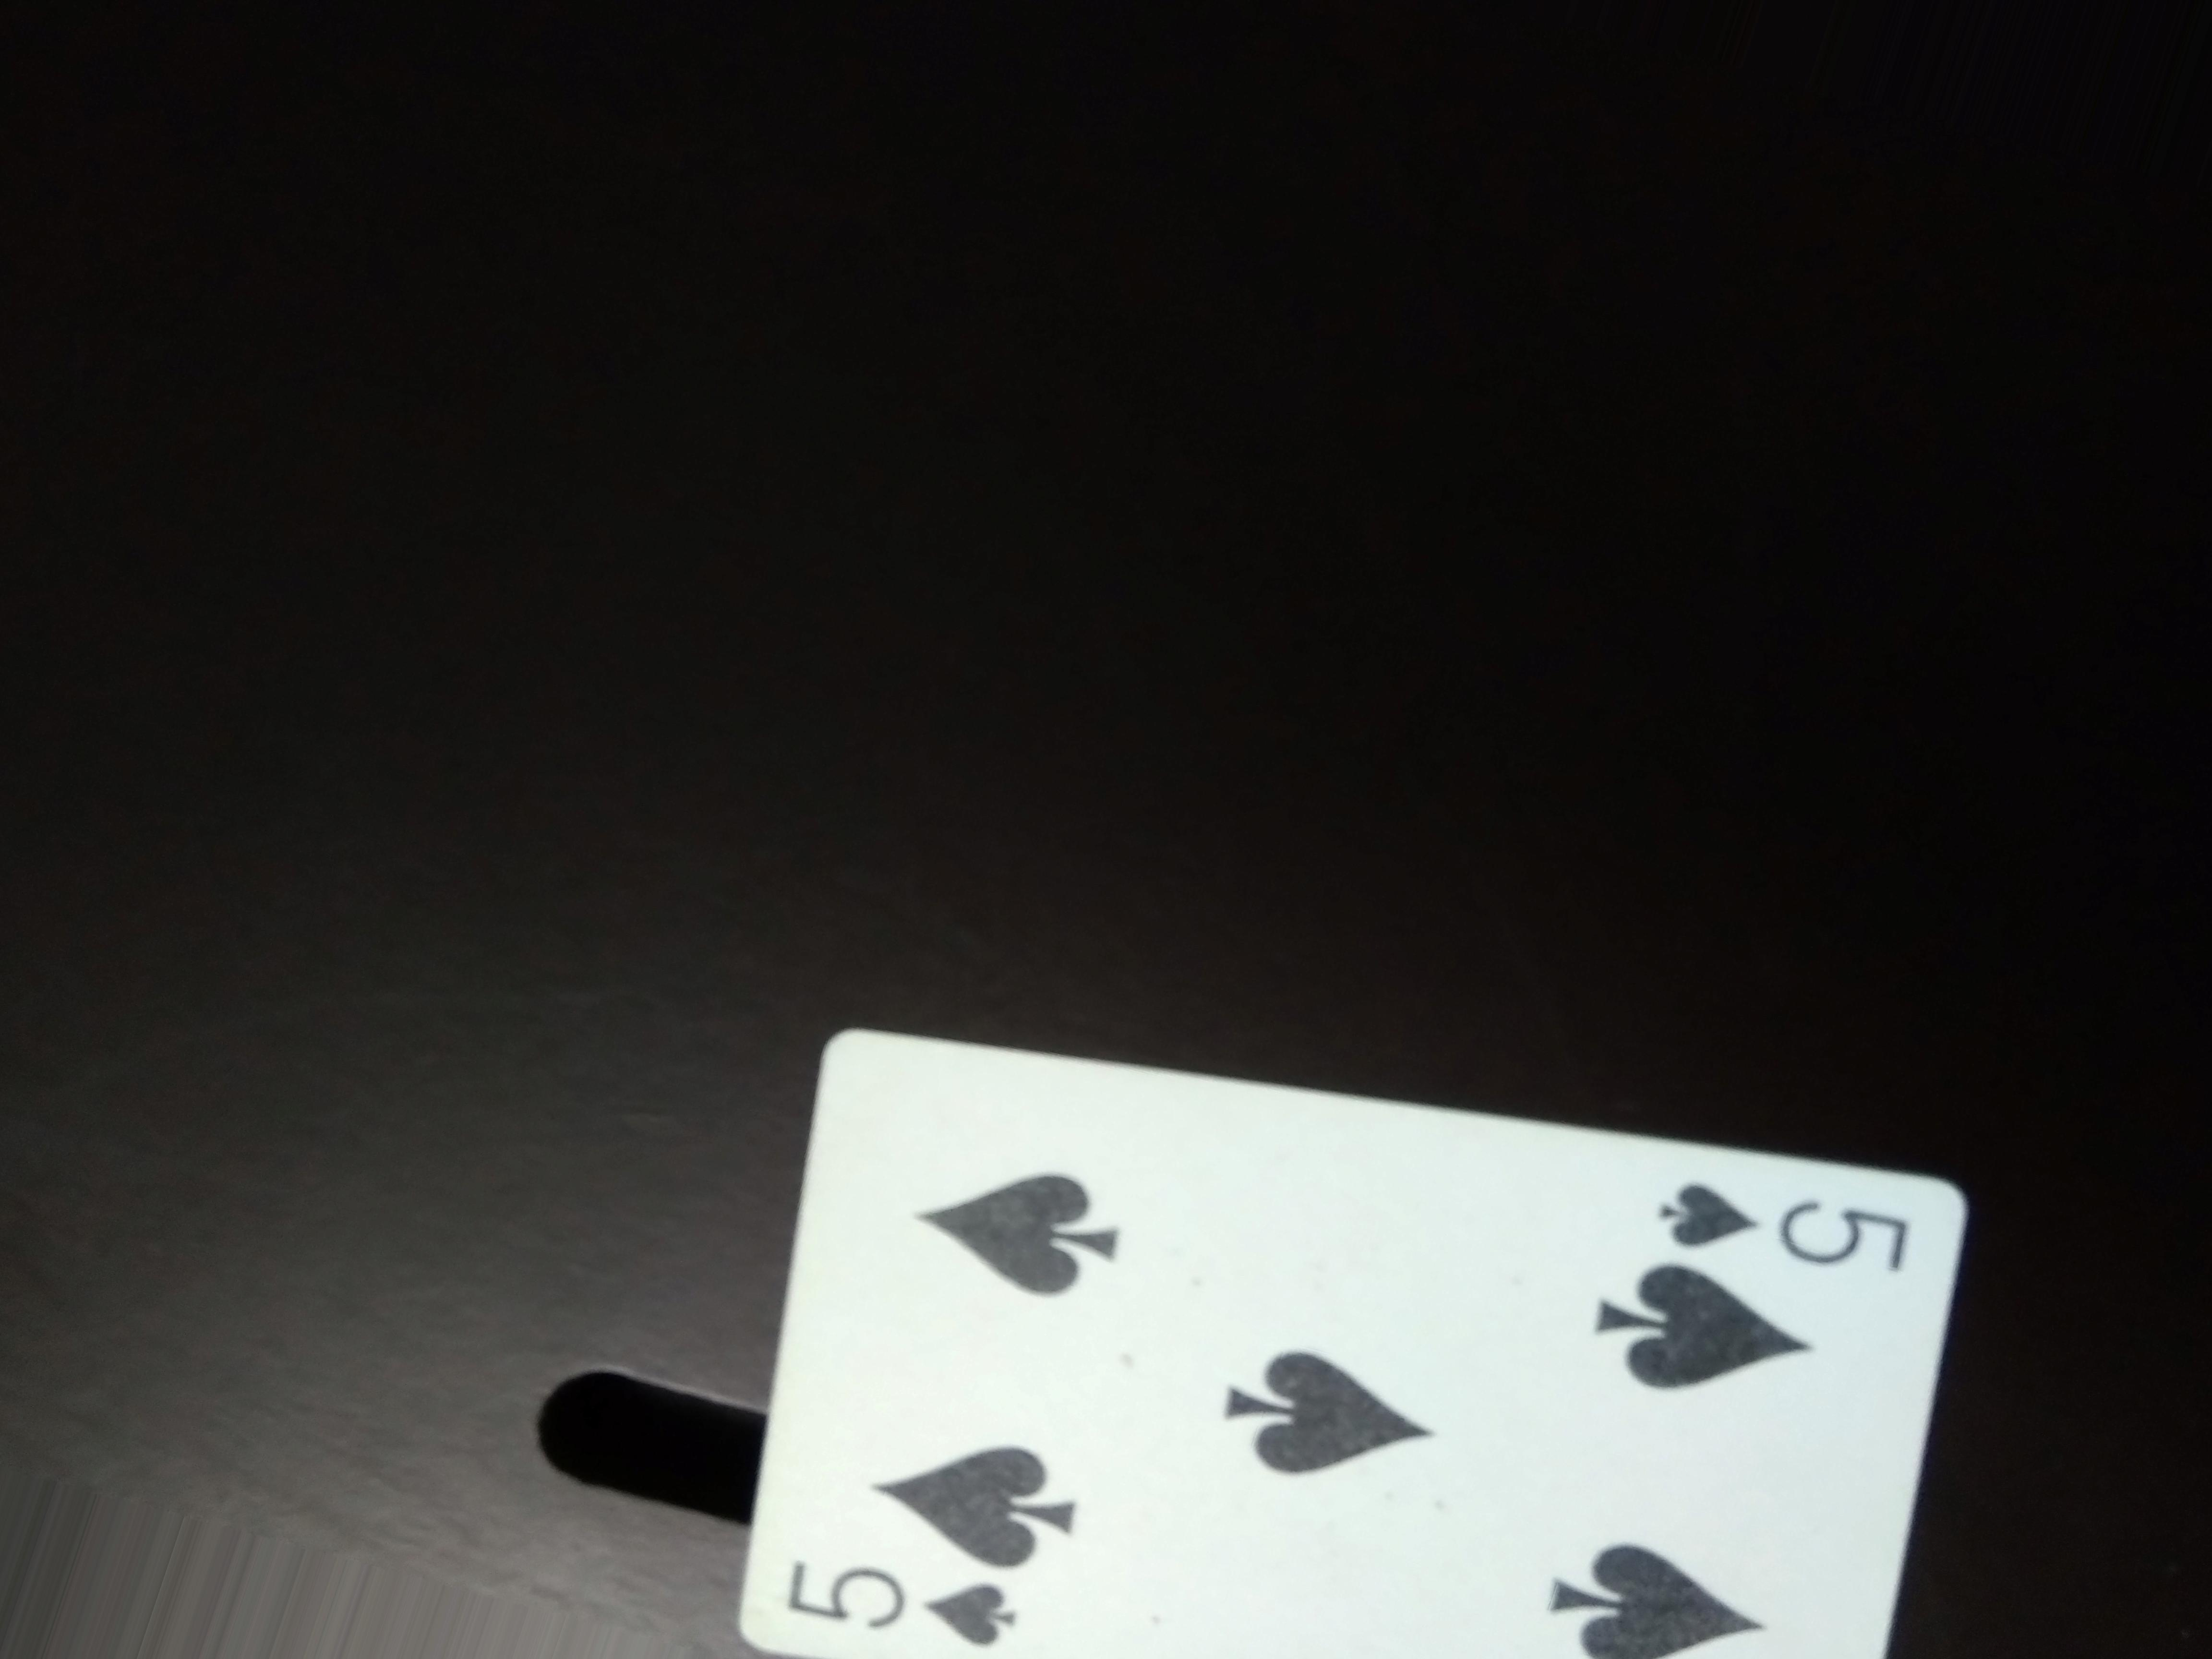5S: (1641, 1157, 1961, 1305)
